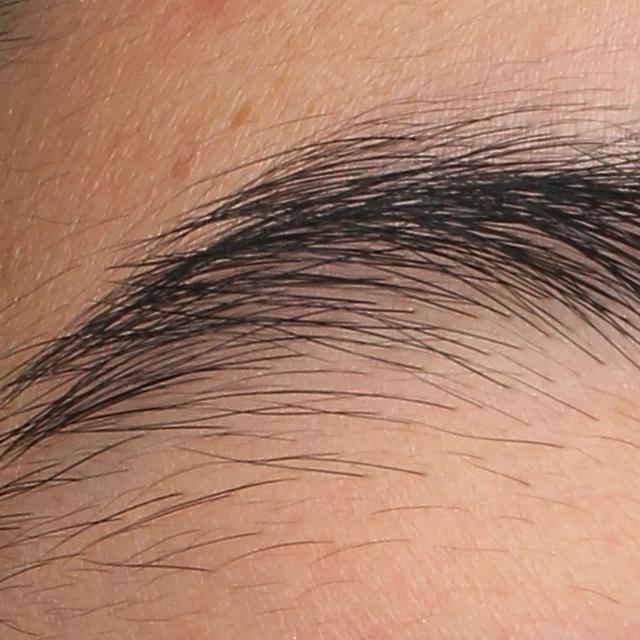melasma: (227, 97, 255, 137)
